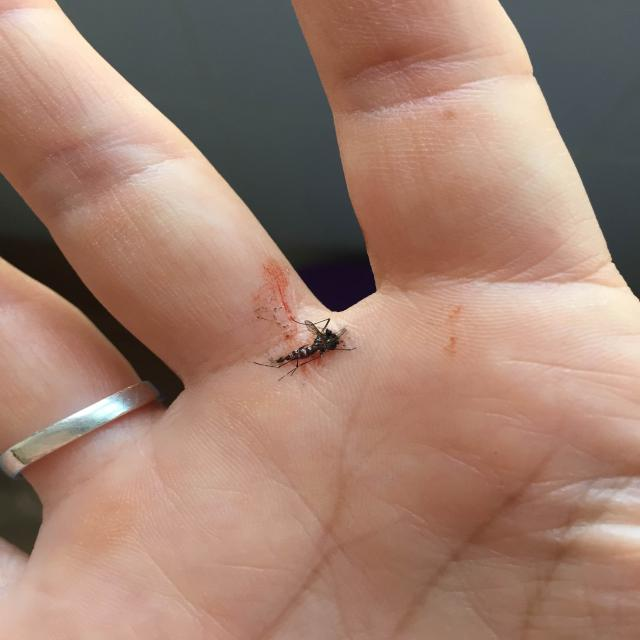albopictus: (250, 302, 364, 382)
